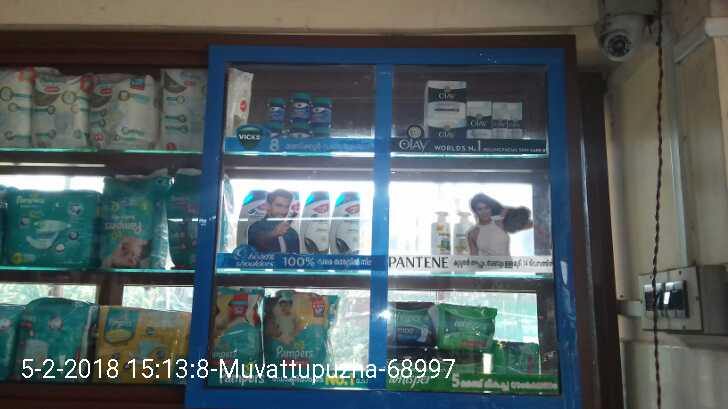vicks: (268, 93, 332, 141)
